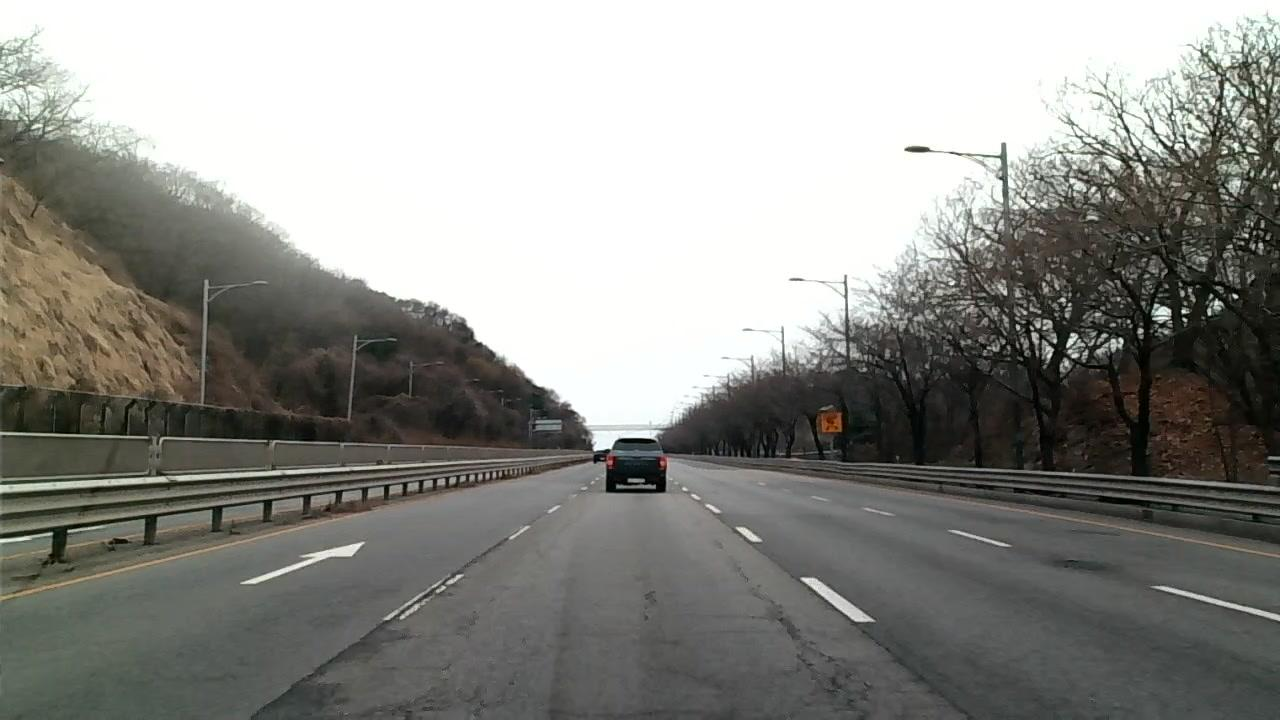erosion: (376, 661, 505, 720), (786, 635, 871, 720), (637, 585, 663, 623)
vcrack: (232, 537, 508, 720), (807, 585, 981, 719), (735, 567, 819, 643)
